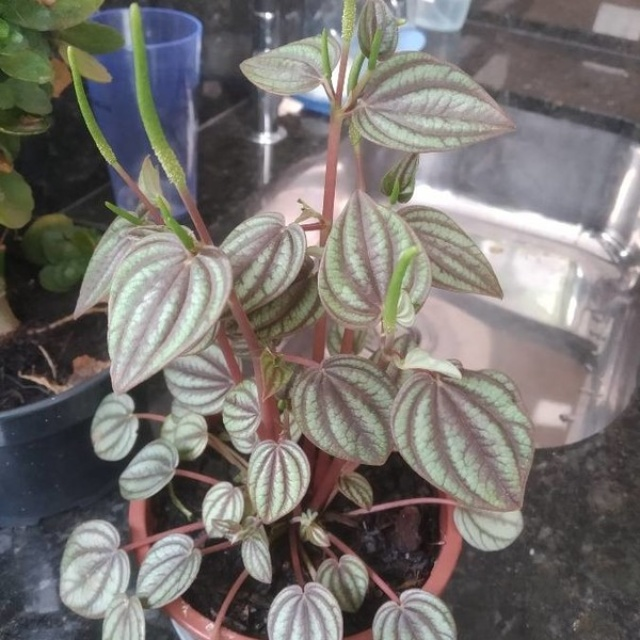obstacle: (52, 66, 494, 614)
